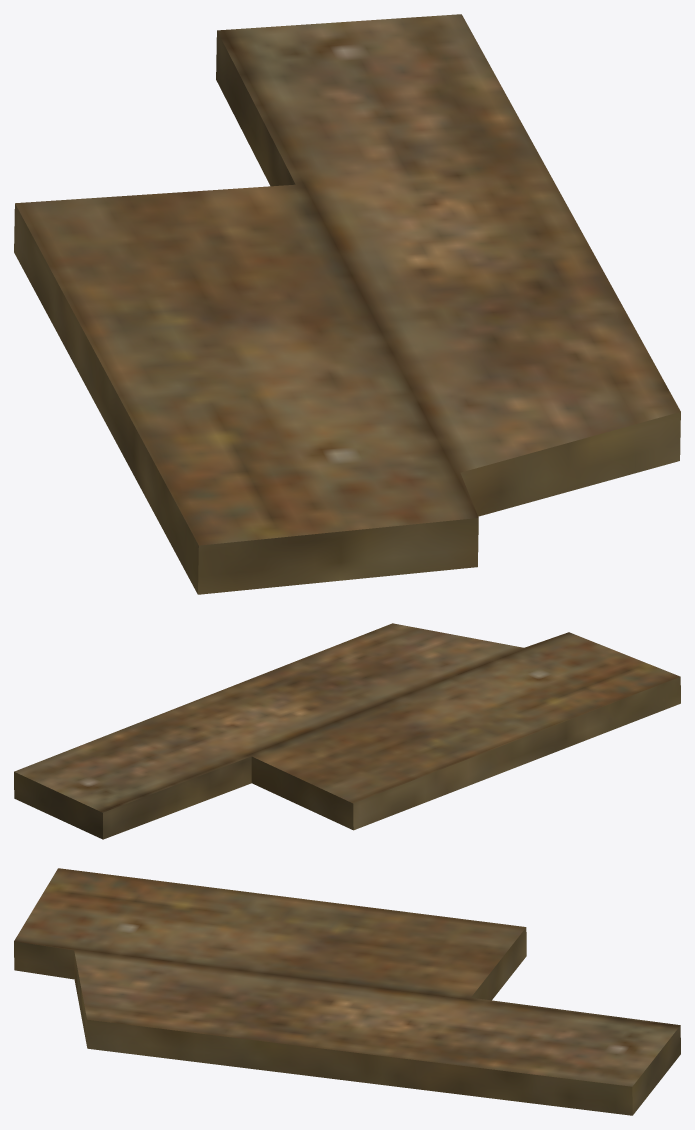
The model's file is WoodDecor04.glb.
The picture shows the model from 3 angles, top to bottom: view 1: azimuth 30°, elevation 25°; view 2: azimuth 150°, elevation 25°; view 3: azimuth 270°, elevation 25°; orthographic projection. The views are drawn at different scales.
Visible parts, largest first — view 1: WoodDecor04; view 2: WoodDecor04; view 3: WoodDecor04.
Part boxes in pixels (x1,y1,x2,y2): WoodDecor04: [14, 14, 680, 594]; WoodDecor04: [14, 623, 680, 839]; WoodDecor04: [14, 868, 680, 1115].
Size of what is drawn, in the model's own units: 0.7934 by 0.0609 by 1.03.
Materials: 1 (1 with a texture image).
